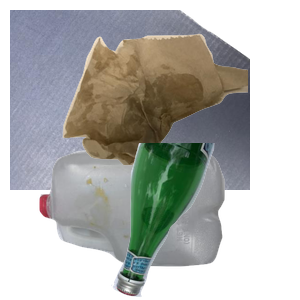cardboard: (10, 10, 250, 190)
glass: (109, 143, 300, 300)
plastic: (37, 147, 254, 300)
trash: (60, 31, 300, 189)
